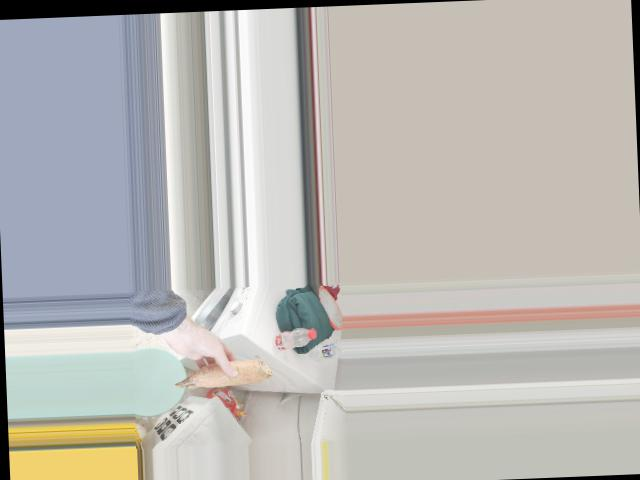sweet_potato: (175, 353, 276, 395)
